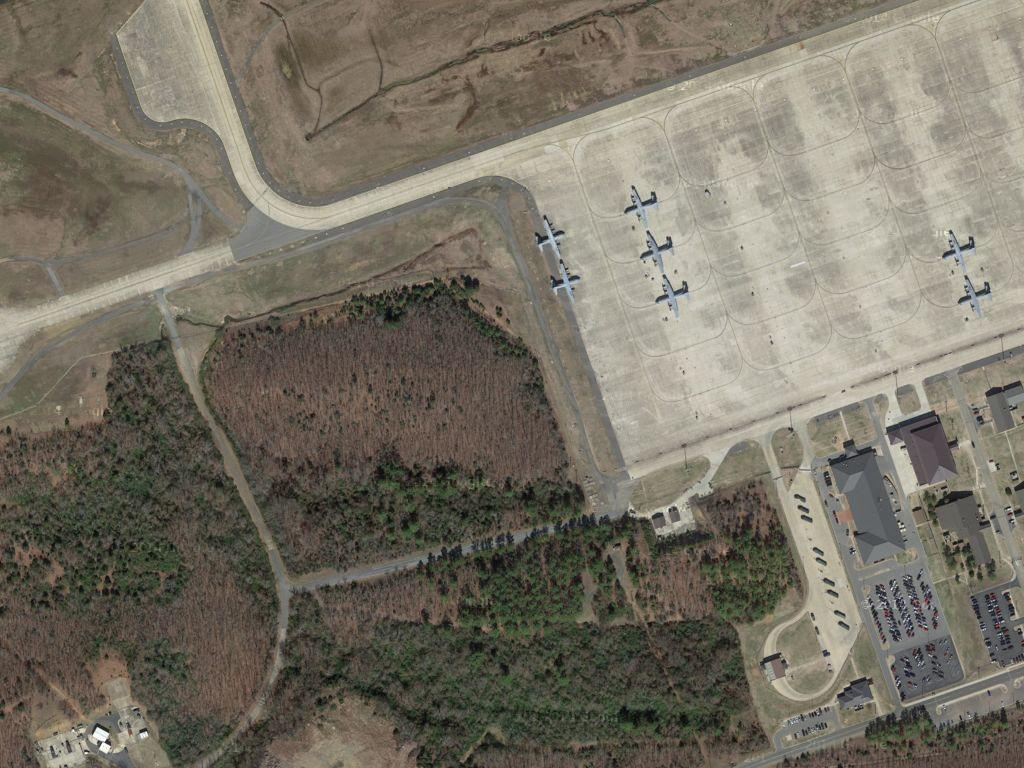C-130: (639, 231, 675, 274), (656, 273, 689, 319), (957, 276, 991, 319), (624, 184, 657, 227), (534, 215, 566, 258), (942, 230, 974, 273), (550, 260, 582, 302)
